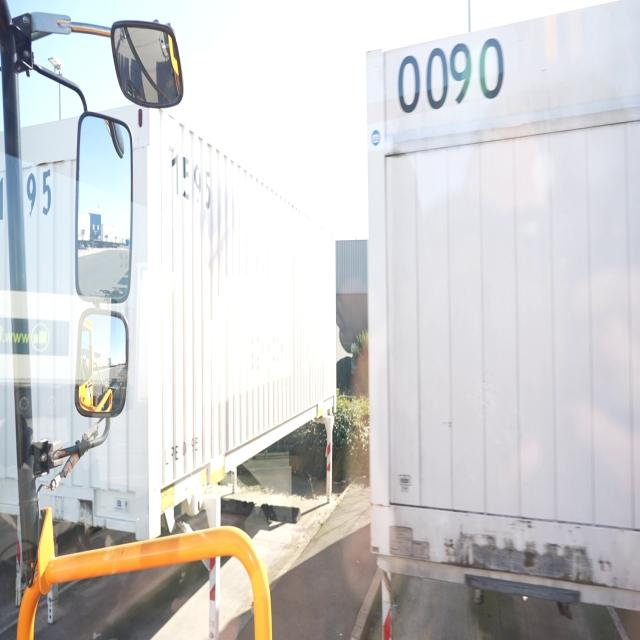Code: (391, 41, 512, 111)
